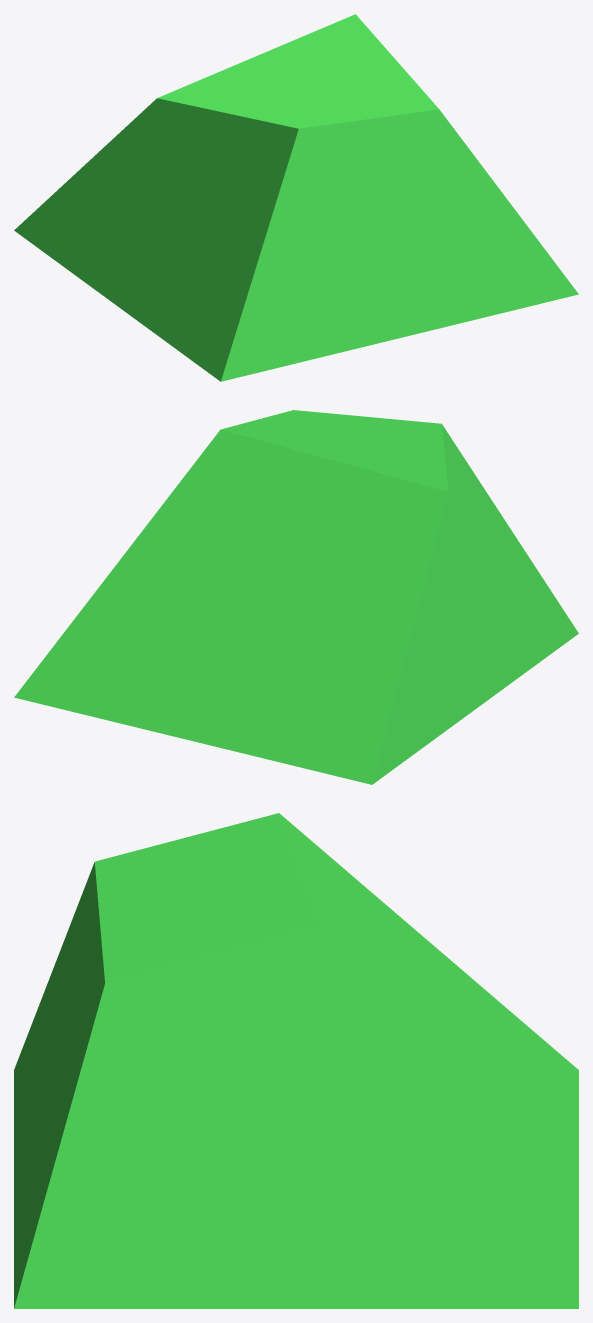
Rendered from Attempt at a hill.fbx.
The picture shows the model from 3 angles, top to bottom: view 1: azimuth 30°, elevation 25°; view 2: azimuth 150°, elevation 25°; view 3: azimuth 270°, elevation 25°; orthographic projection. The views are drawn at different scales.
Visible parts, largest first — view 1: Cube; view 2: Cube; view 3: Cube.
Boxes of the visible parts, <box> form: Cube: <box>14,14,578,381</box>; Cube: <box>14,410,578,784</box>; Cube: <box>14,813,578,1308</box>.
Bounding box in the file's own units: 10000 × 6021 × 10000.
